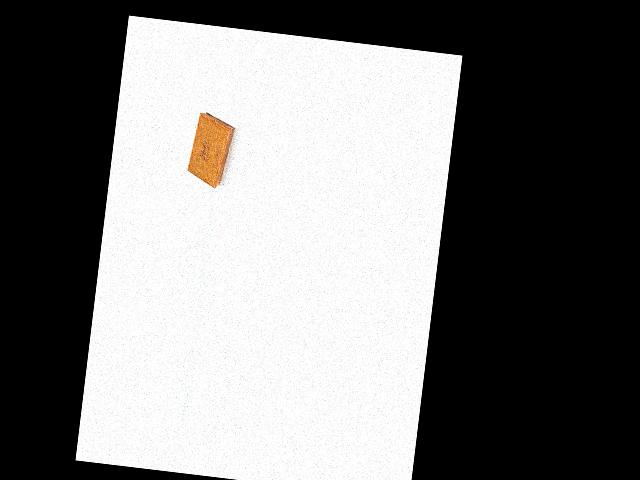chocolate: (183, 109, 242, 189)
